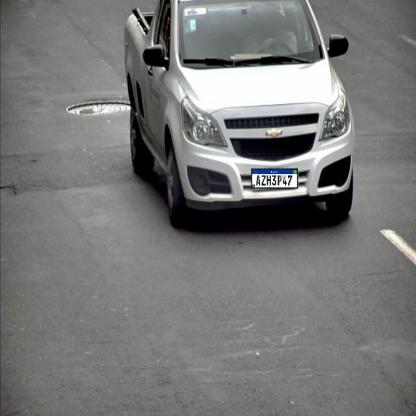PlacaM: (251, 168, 298, 188)
